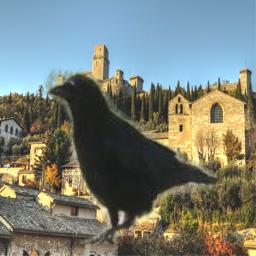Crow: (42, 67, 217, 244)
